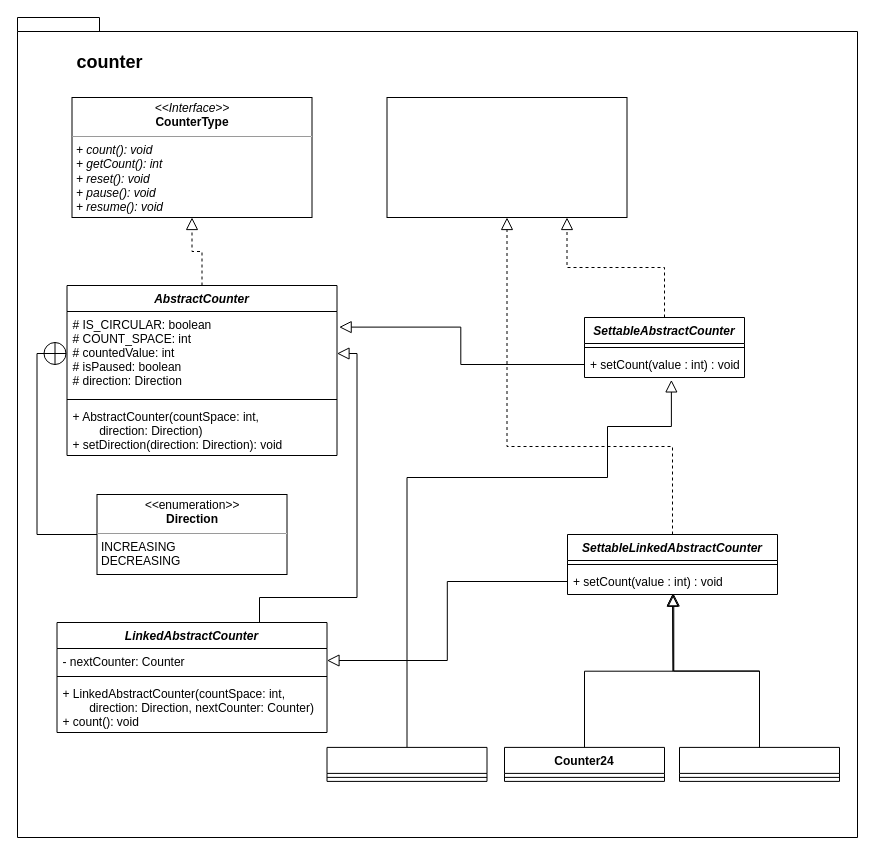
Some shapes in this 875 by 855 pixel diagram are drawn without their labels. Here are the shapes that lost their labels. From the top down, the centre of each, then its label:
pixel 506 157: <<Interface>> SettableCounterType + setCount(value: int)
pixel 406 763: Counter7
pixel 759 763: Counter60
